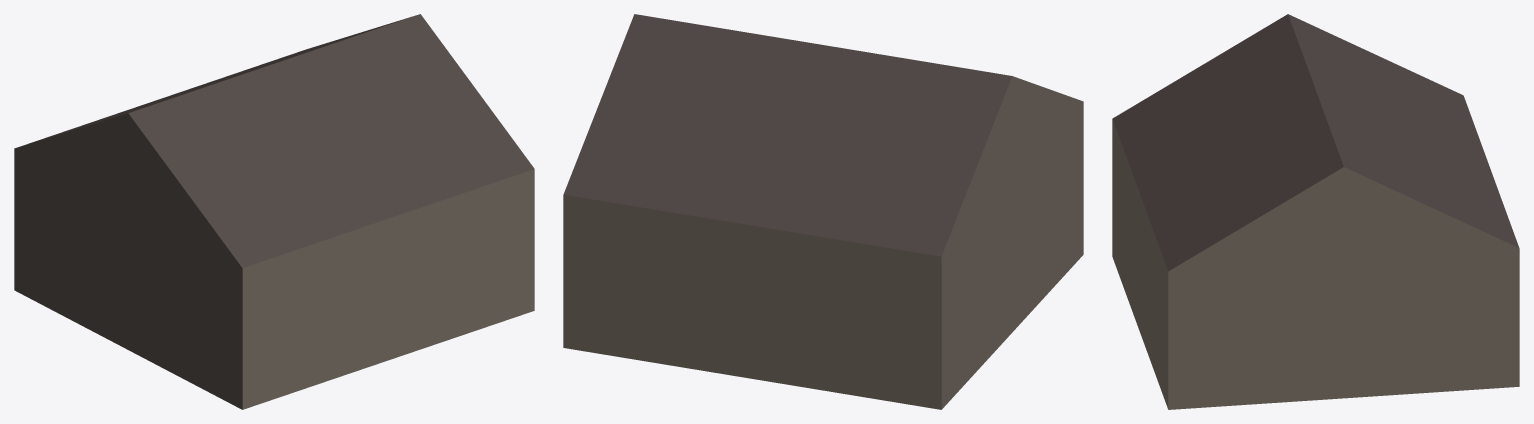
3 views of the same model, side by side, from view 1: azimuth 30°, elevation 25°; view 2: azimuth 150°, elevation 25°; view 3: azimuth 270°, elevation 25° (orthographic). The views are drawn at different scales.
Visible parts, largest first — view 1: HP-w858807477; view 2: HP-w858807477; view 3: HP-w858807477.
Part boxes in pixels (x1,y1,x2,y2): HP-w858807477: (14,14,534,409); HP-w858807477: (563,14,1083,409); HP-w858807477: (1112,14,1519,409).
Bounding box in the file's own units: 8.18 × 5.01 × 7.99.
